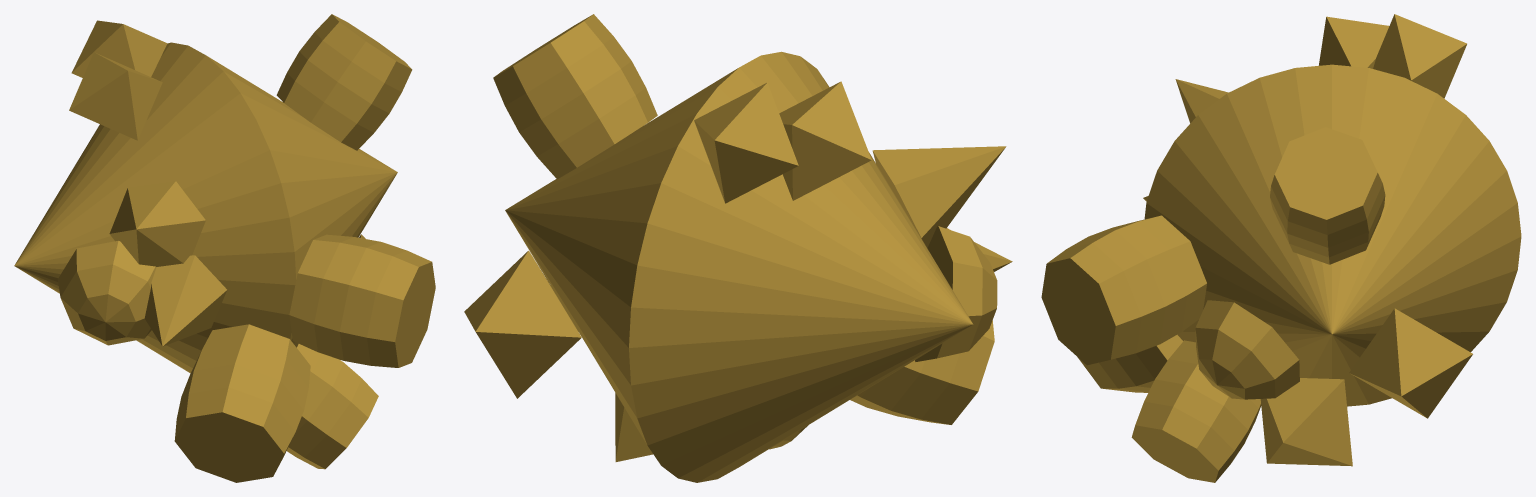
The model's file is exp2_spindle_asym_03.glb.
The picture shows the model from 3 angles, left to right: view 1: azimuth 30°, elevation 25°; view 2: azimuth 150°, elevation 25°; view 3: azimuth 270°, elevation 25°; orthographic projection. The views are drawn at different scales.
Visible parts, largest first — view 1: exp2_spindle_asym_03; view 2: exp2_spindle_asym_03; view 3: exp2_spindle_asym_03.
Part boxes in pixels (x1,y1,x2,y2): exp2_spindle_asym_03: [14, 14, 435, 482]; exp2_spindle_asym_03: [464, 14, 1012, 482]; exp2_spindle_asym_03: [1041, 14, 1521, 482].
Bounding box in the file's own units: 1.61 × 1.57 × 1.65.
